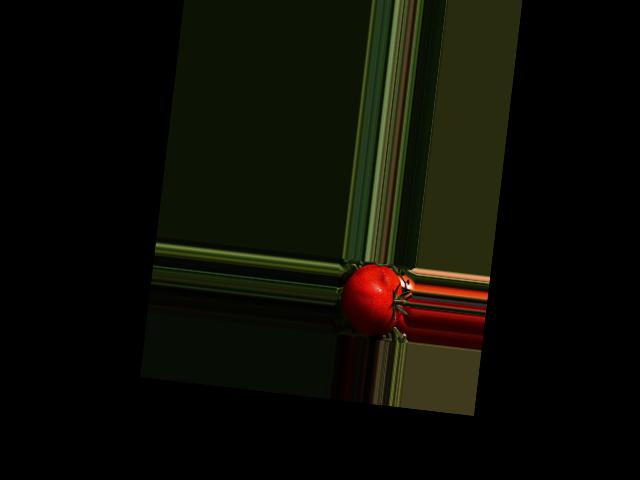tomato: (337, 260, 406, 338)
